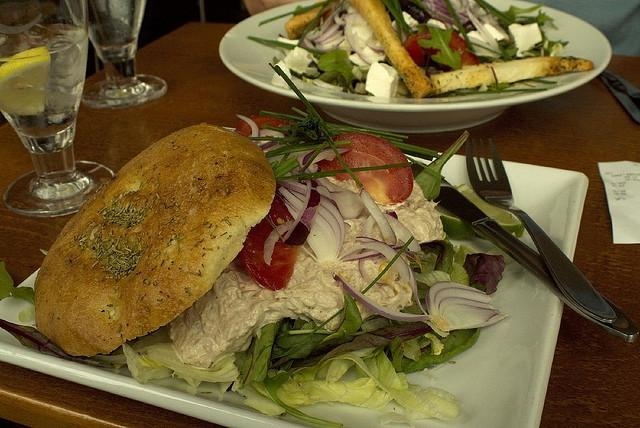lemon: (0, 46, 50, 116)
lettuce: (90, 327, 242, 395), (276, 376, 394, 412), (414, 130, 470, 201), (234, 324, 278, 390), (416, 24, 462, 70), (290, 346, 338, 368), (317, 50, 354, 78), (326, 358, 356, 383), (503, 4, 542, 20)
onion: (332, 272, 508, 330), (276, 180, 346, 270), (336, 241, 410, 284), (362, 213, 421, 264), (359, 188, 397, 246), (235, 114, 260, 144), (302, 148, 347, 164), (418, 0, 452, 19), (314, 23, 339, 44), (358, 248, 372, 284), (345, 20, 359, 51), (457, 10, 470, 24)
tomato: (314, 132, 414, 204), (239, 194, 302, 291), (402, 29, 479, 68), (235, 116, 297, 138)
